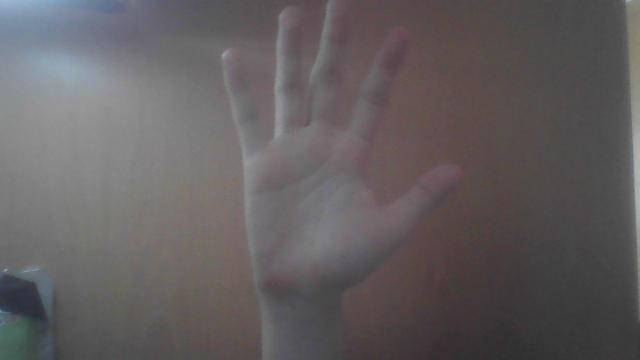Stop: (220, 0, 446, 294)
